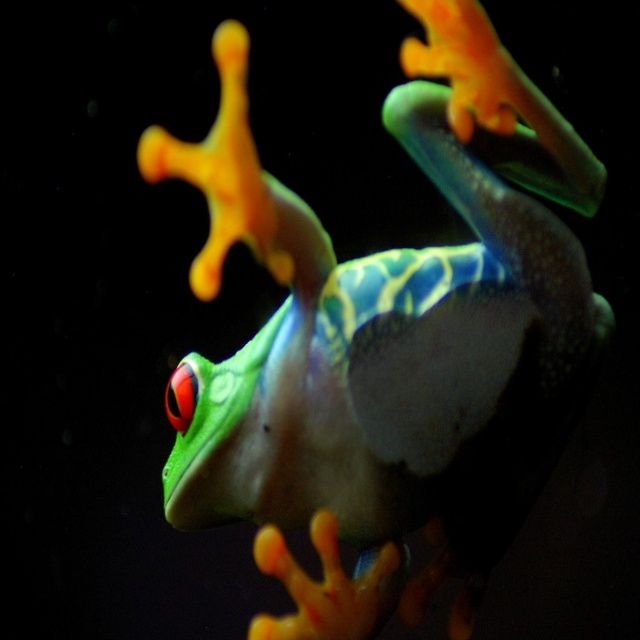Frog: (136, 0, 613, 639)
